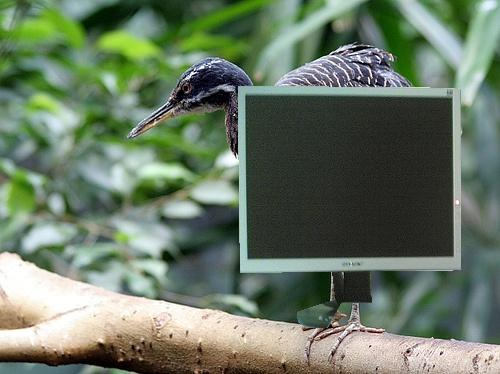tampered: (239, 87, 461, 328)
